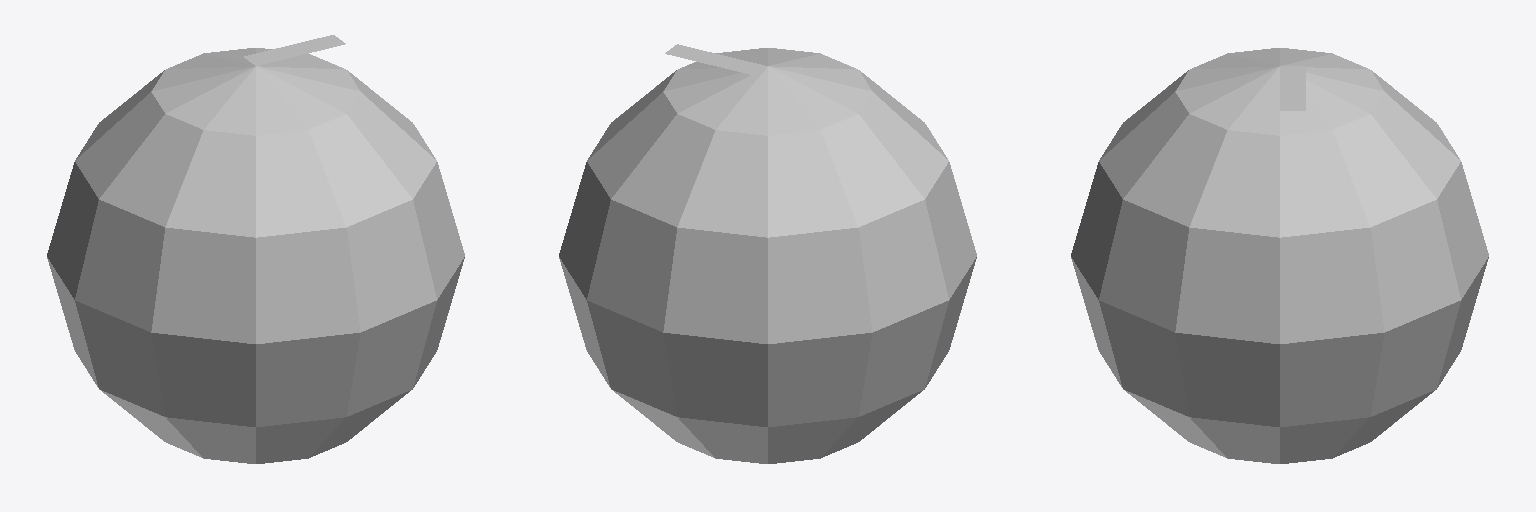
File: orange_2.obj
3 renders of one model, left to right at view 1: azimuth 30°, elevation 25°; view 2: azimuth 150°, elevation 25°; view 3: azimuth 270°, elevation 25°, orthographic.
Parts seen in each view (by area): view 1: sphere, cube; view 2: sphere, cube; view 3: sphere, cube.
Part boxes in pixels (x1,y1,x2,y2): sphere: (47,48,464,463); cube: (244,35,345,65); sphere: (559,48,976,463); cube: (665,44,767,75); sphere: (1071,48,1488,463); cube: (1280,66,1305,110).
Bounding box in the file's own units: 1 × 1 × 1.